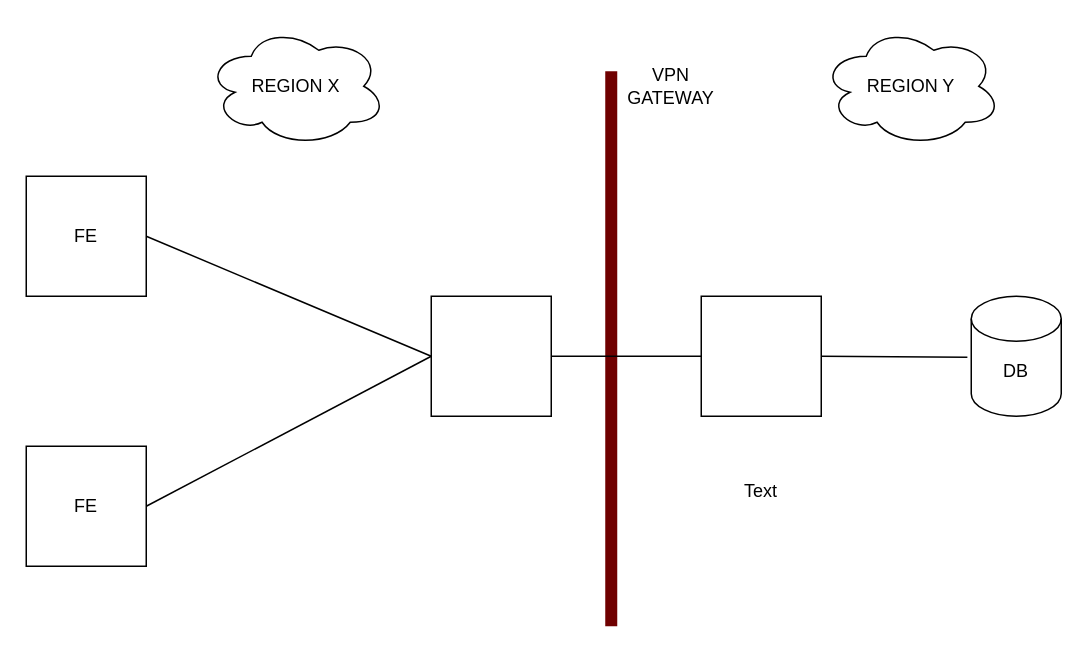
This 1088x660 diagram has some shape labels left out. Here are the shapes that lost their labels. From the top down, the box of each, then its label:
(430, 295, 551, 416): LB
(700, 295, 821, 416): ORM
